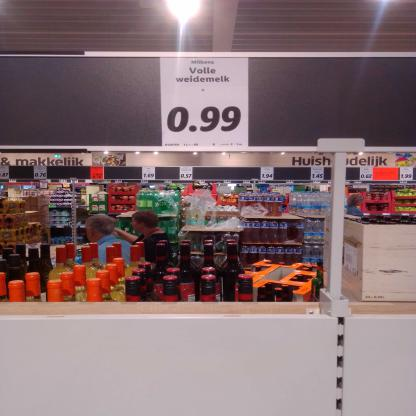prtg: (161, 58, 249, 148)
